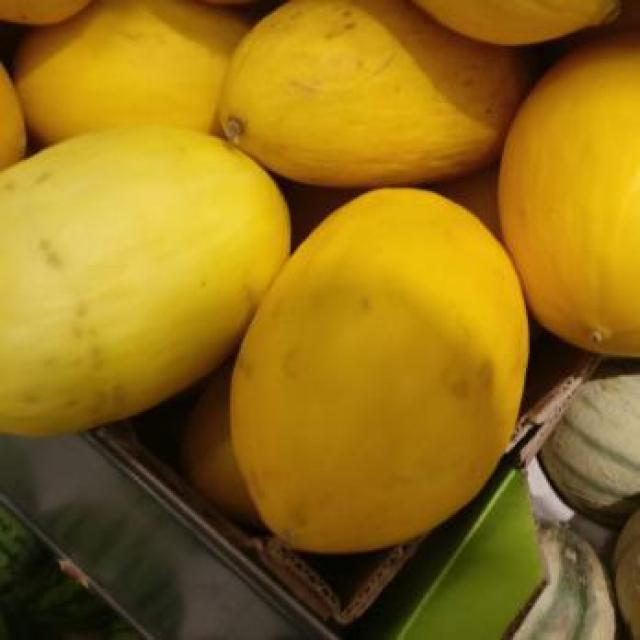Galia: (232, 180, 526, 544), (0, 122, 298, 450), (224, 0, 526, 182), (508, 0, 638, 368), (4, 0, 258, 142)
